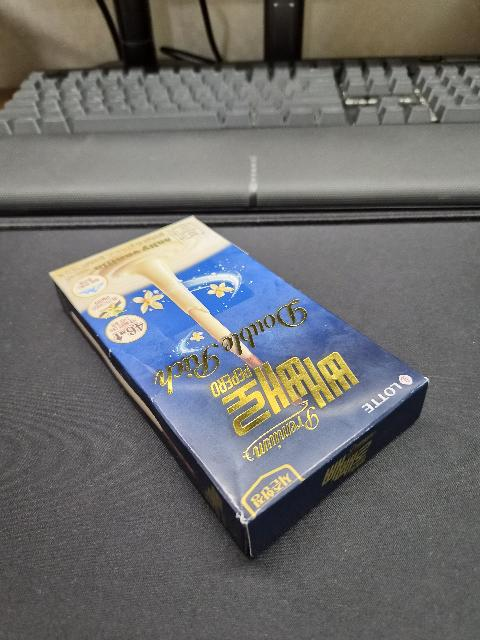pepero: (49, 215, 429, 557)
